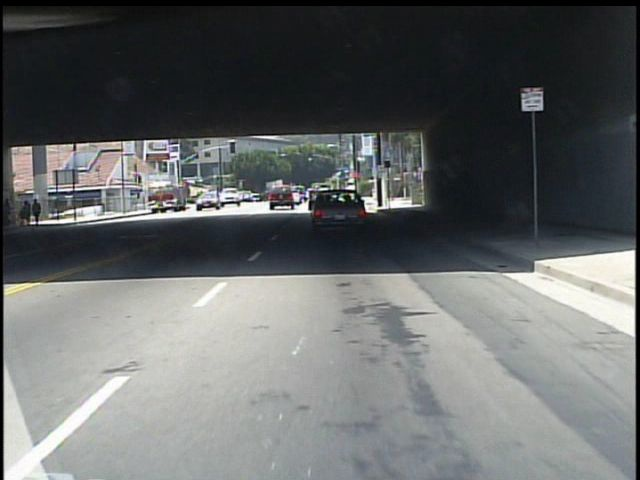person: (20, 200, 33, 228), (34, 199, 45, 229)
